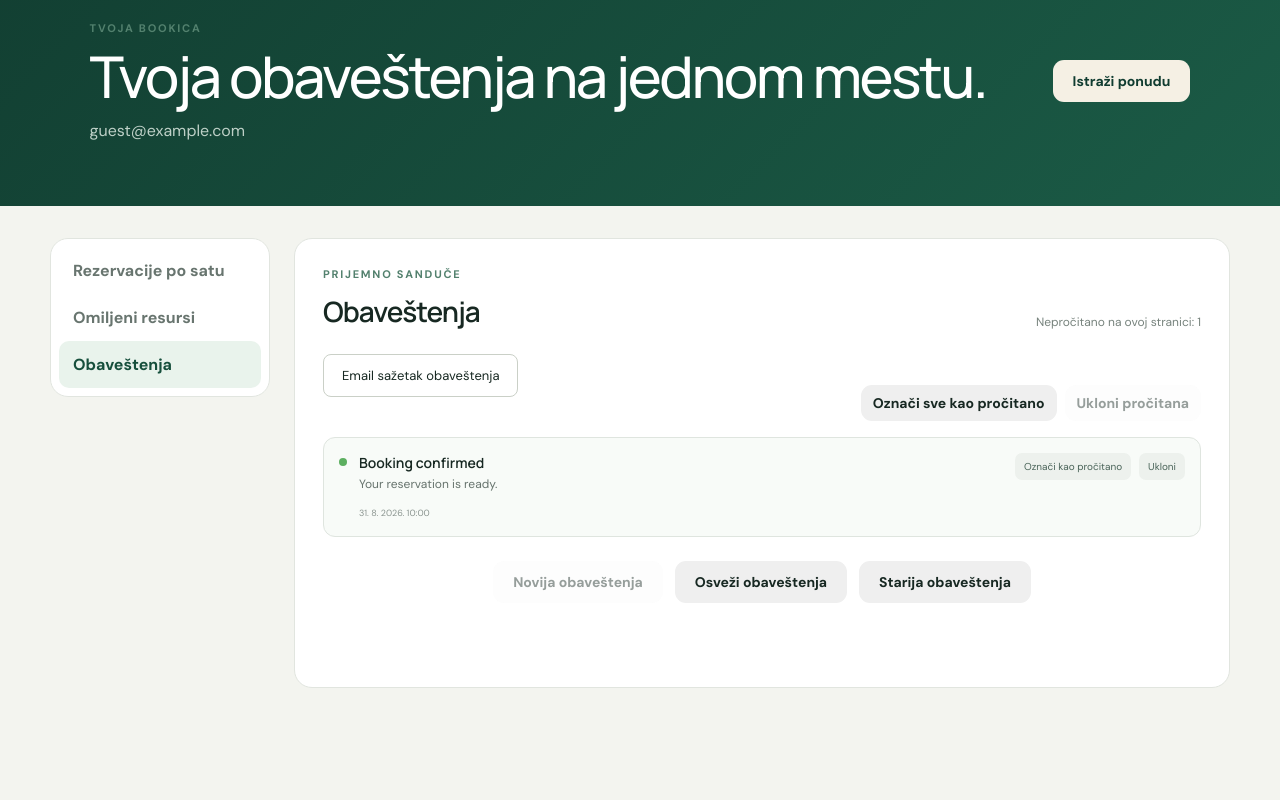
AccountDashboard notification inbox › loads older notifications and returns after dismissing the last item there
(page scrolled)
Click the button "Starija obaveštenja" at [945, 582], box [859,561,1031,603]
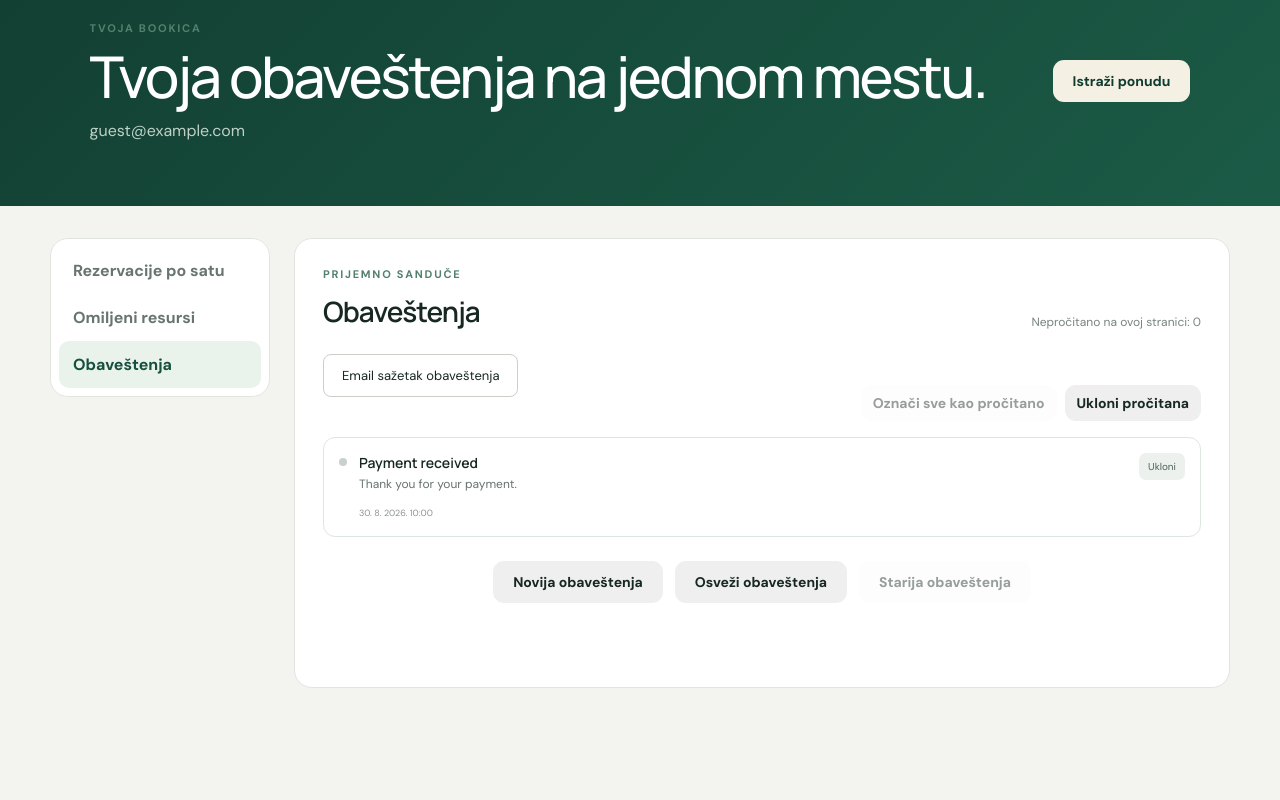
expect the heading "Payment received" is shown: met, box [359,453,478,472]
Click the button "Ukloni" at [1162, 466], box [1139,453,1185,480]
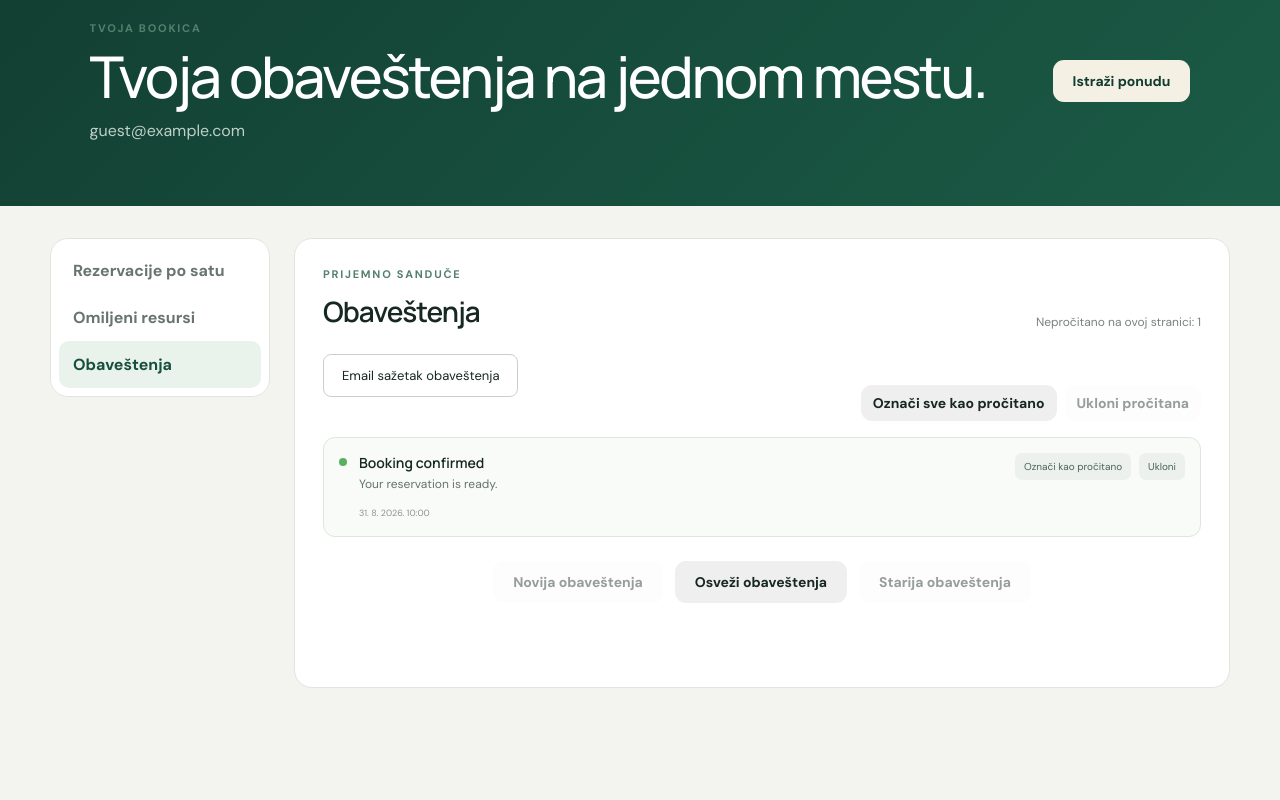
expect the heading "Booking confirmed" is shown: met, box [359,453,484,472]
expect the button "Novija obaveštenja" is disabled: met, box [493,561,663,603]
